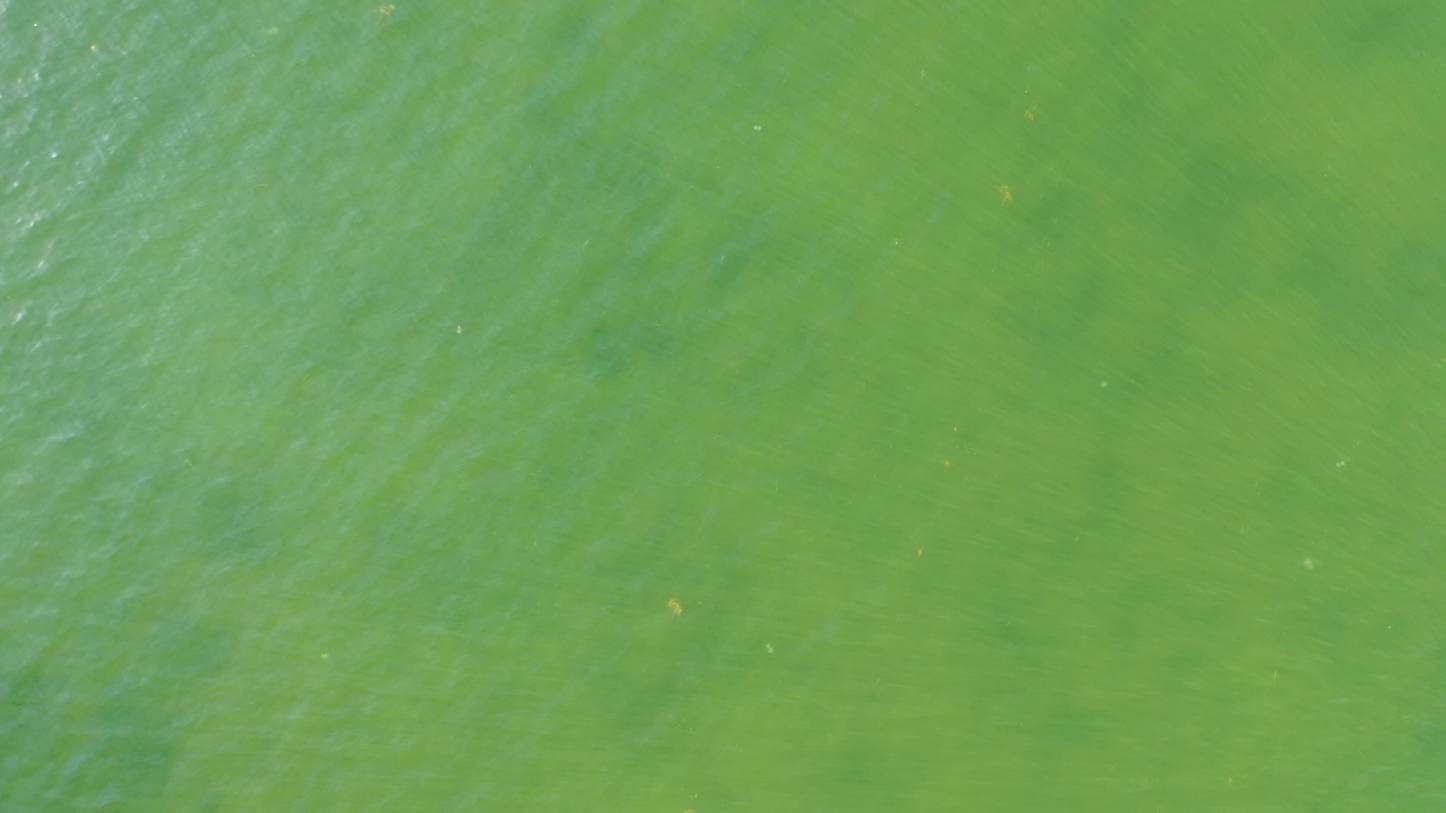meduse: (1303, 559, 1313, 569), (453, 326, 463, 335), (321, 653, 332, 660), (753, 125, 763, 132), (1337, 461, 1345, 469), (766, 646, 775, 653), (1102, 381, 1107, 389)
